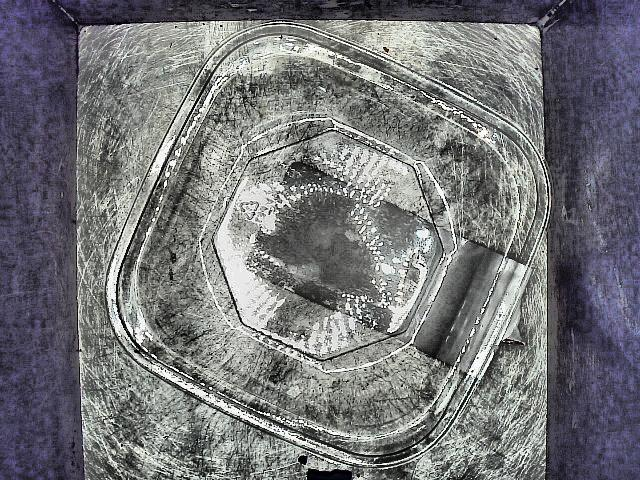Plastic: (103, 20, 551, 476)
